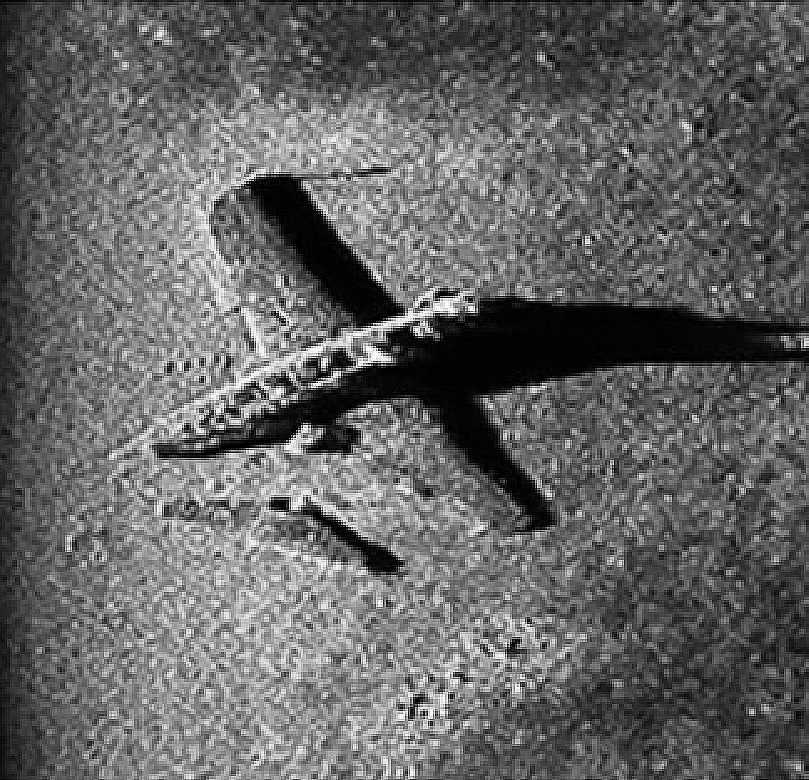plane: (176, 179, 543, 565)
